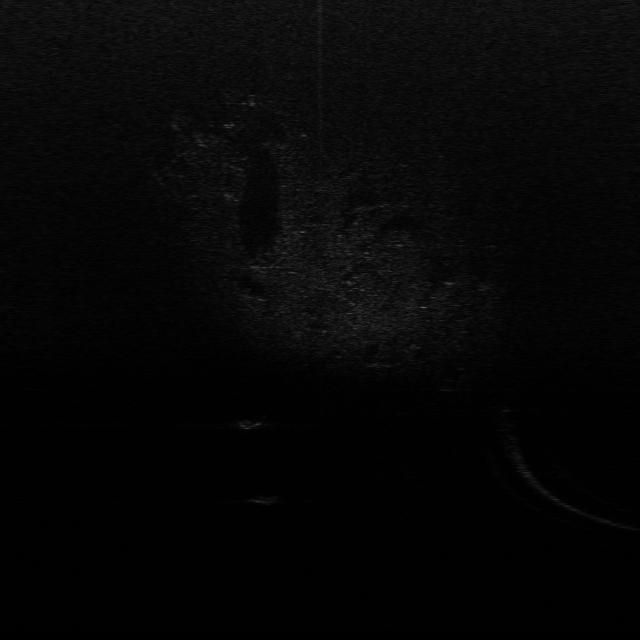cube: (250, 487, 284, 509)
square cage: (234, 413, 274, 435)
